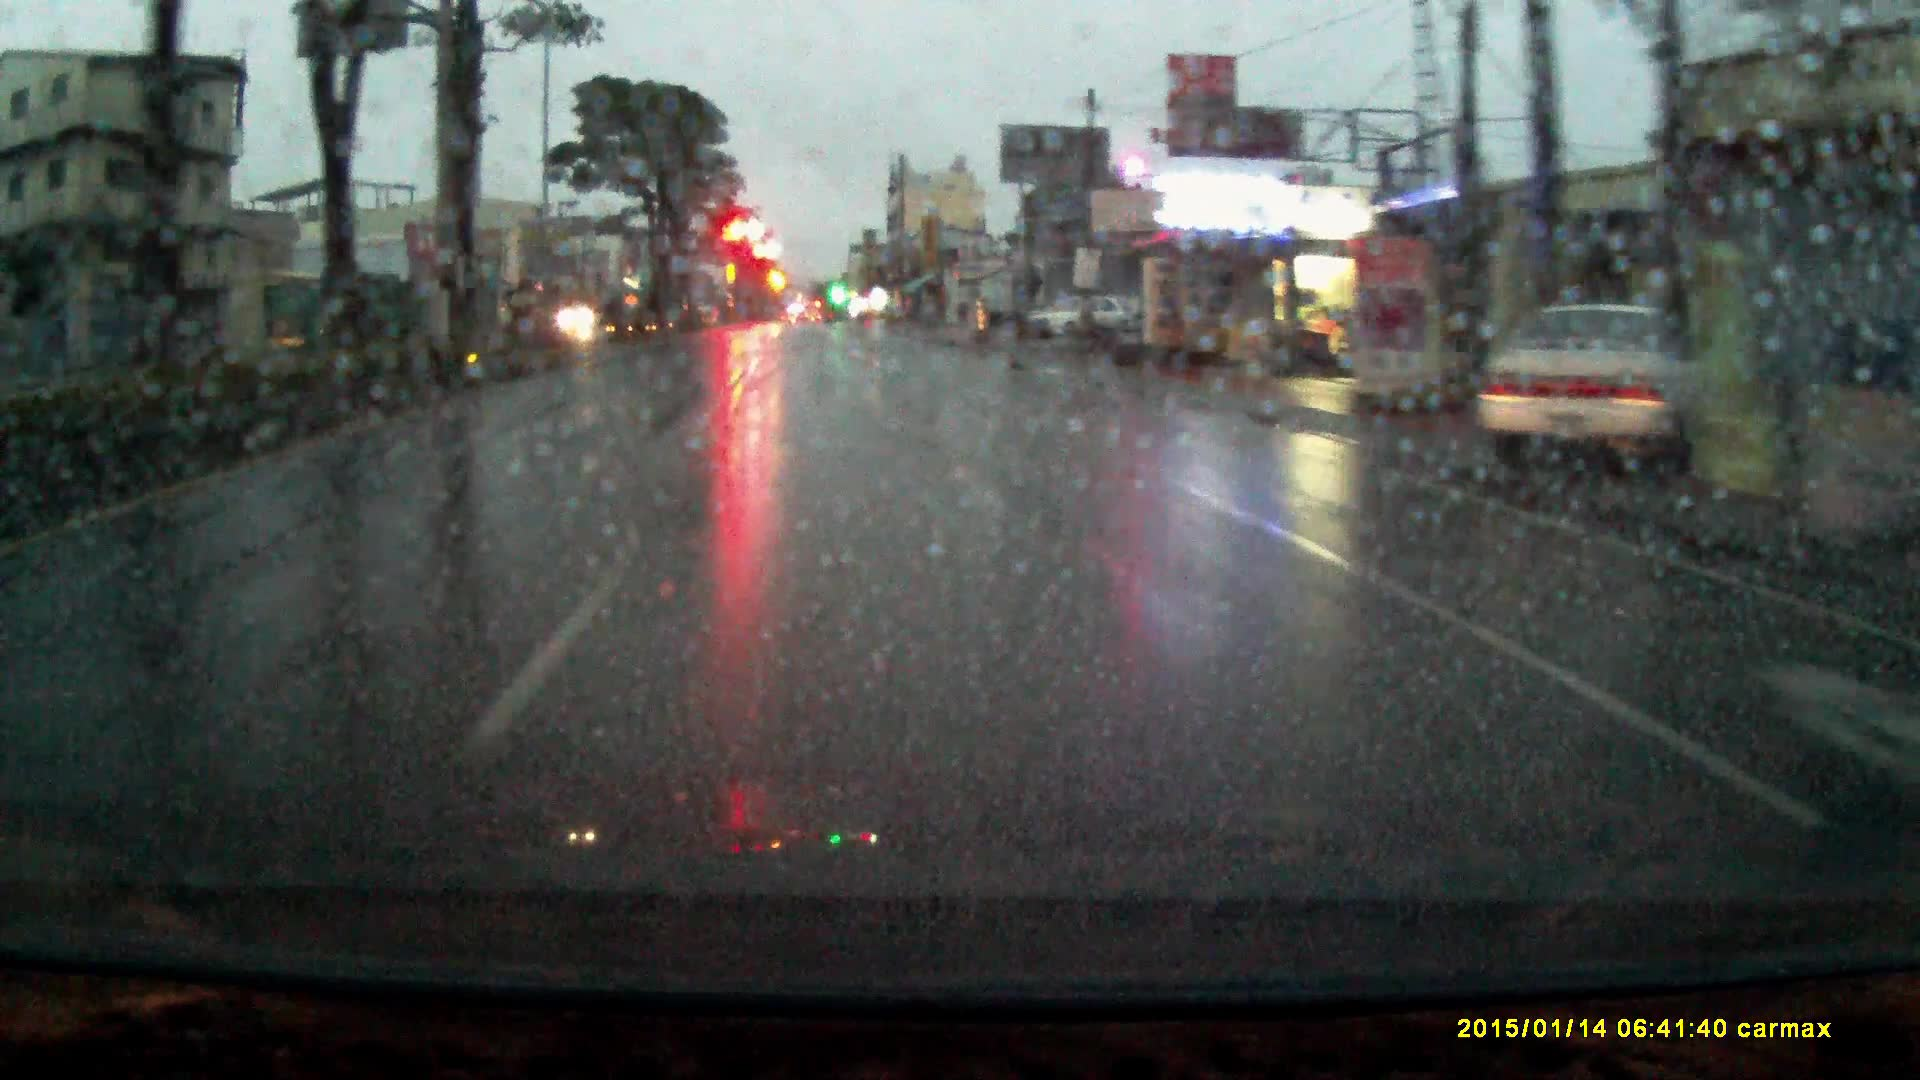vehicle: (1470, 289, 1721, 469), (1029, 291, 1130, 338), (558, 298, 604, 331)
